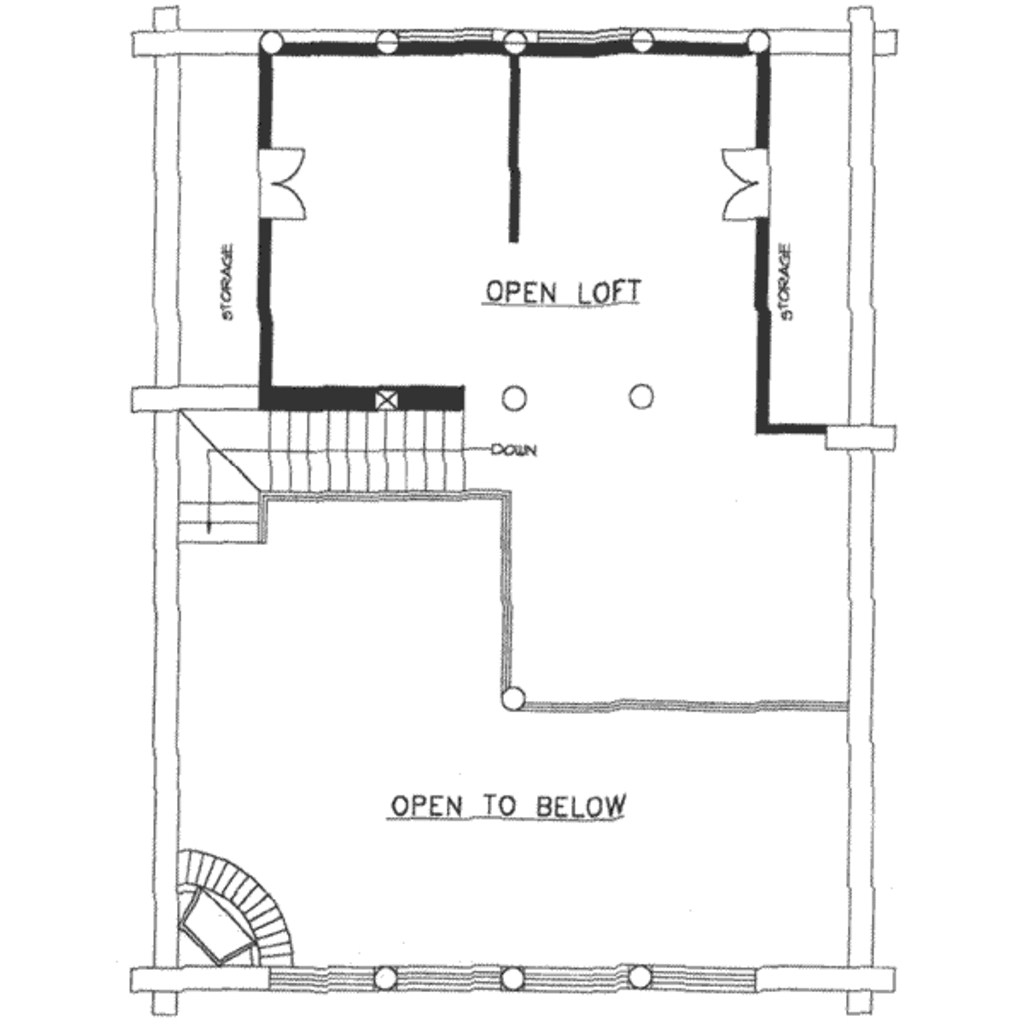door: (714, 144, 773, 221), (261, 150, 314, 222)
stairs: (181, 405, 470, 553), (181, 836, 294, 960)
